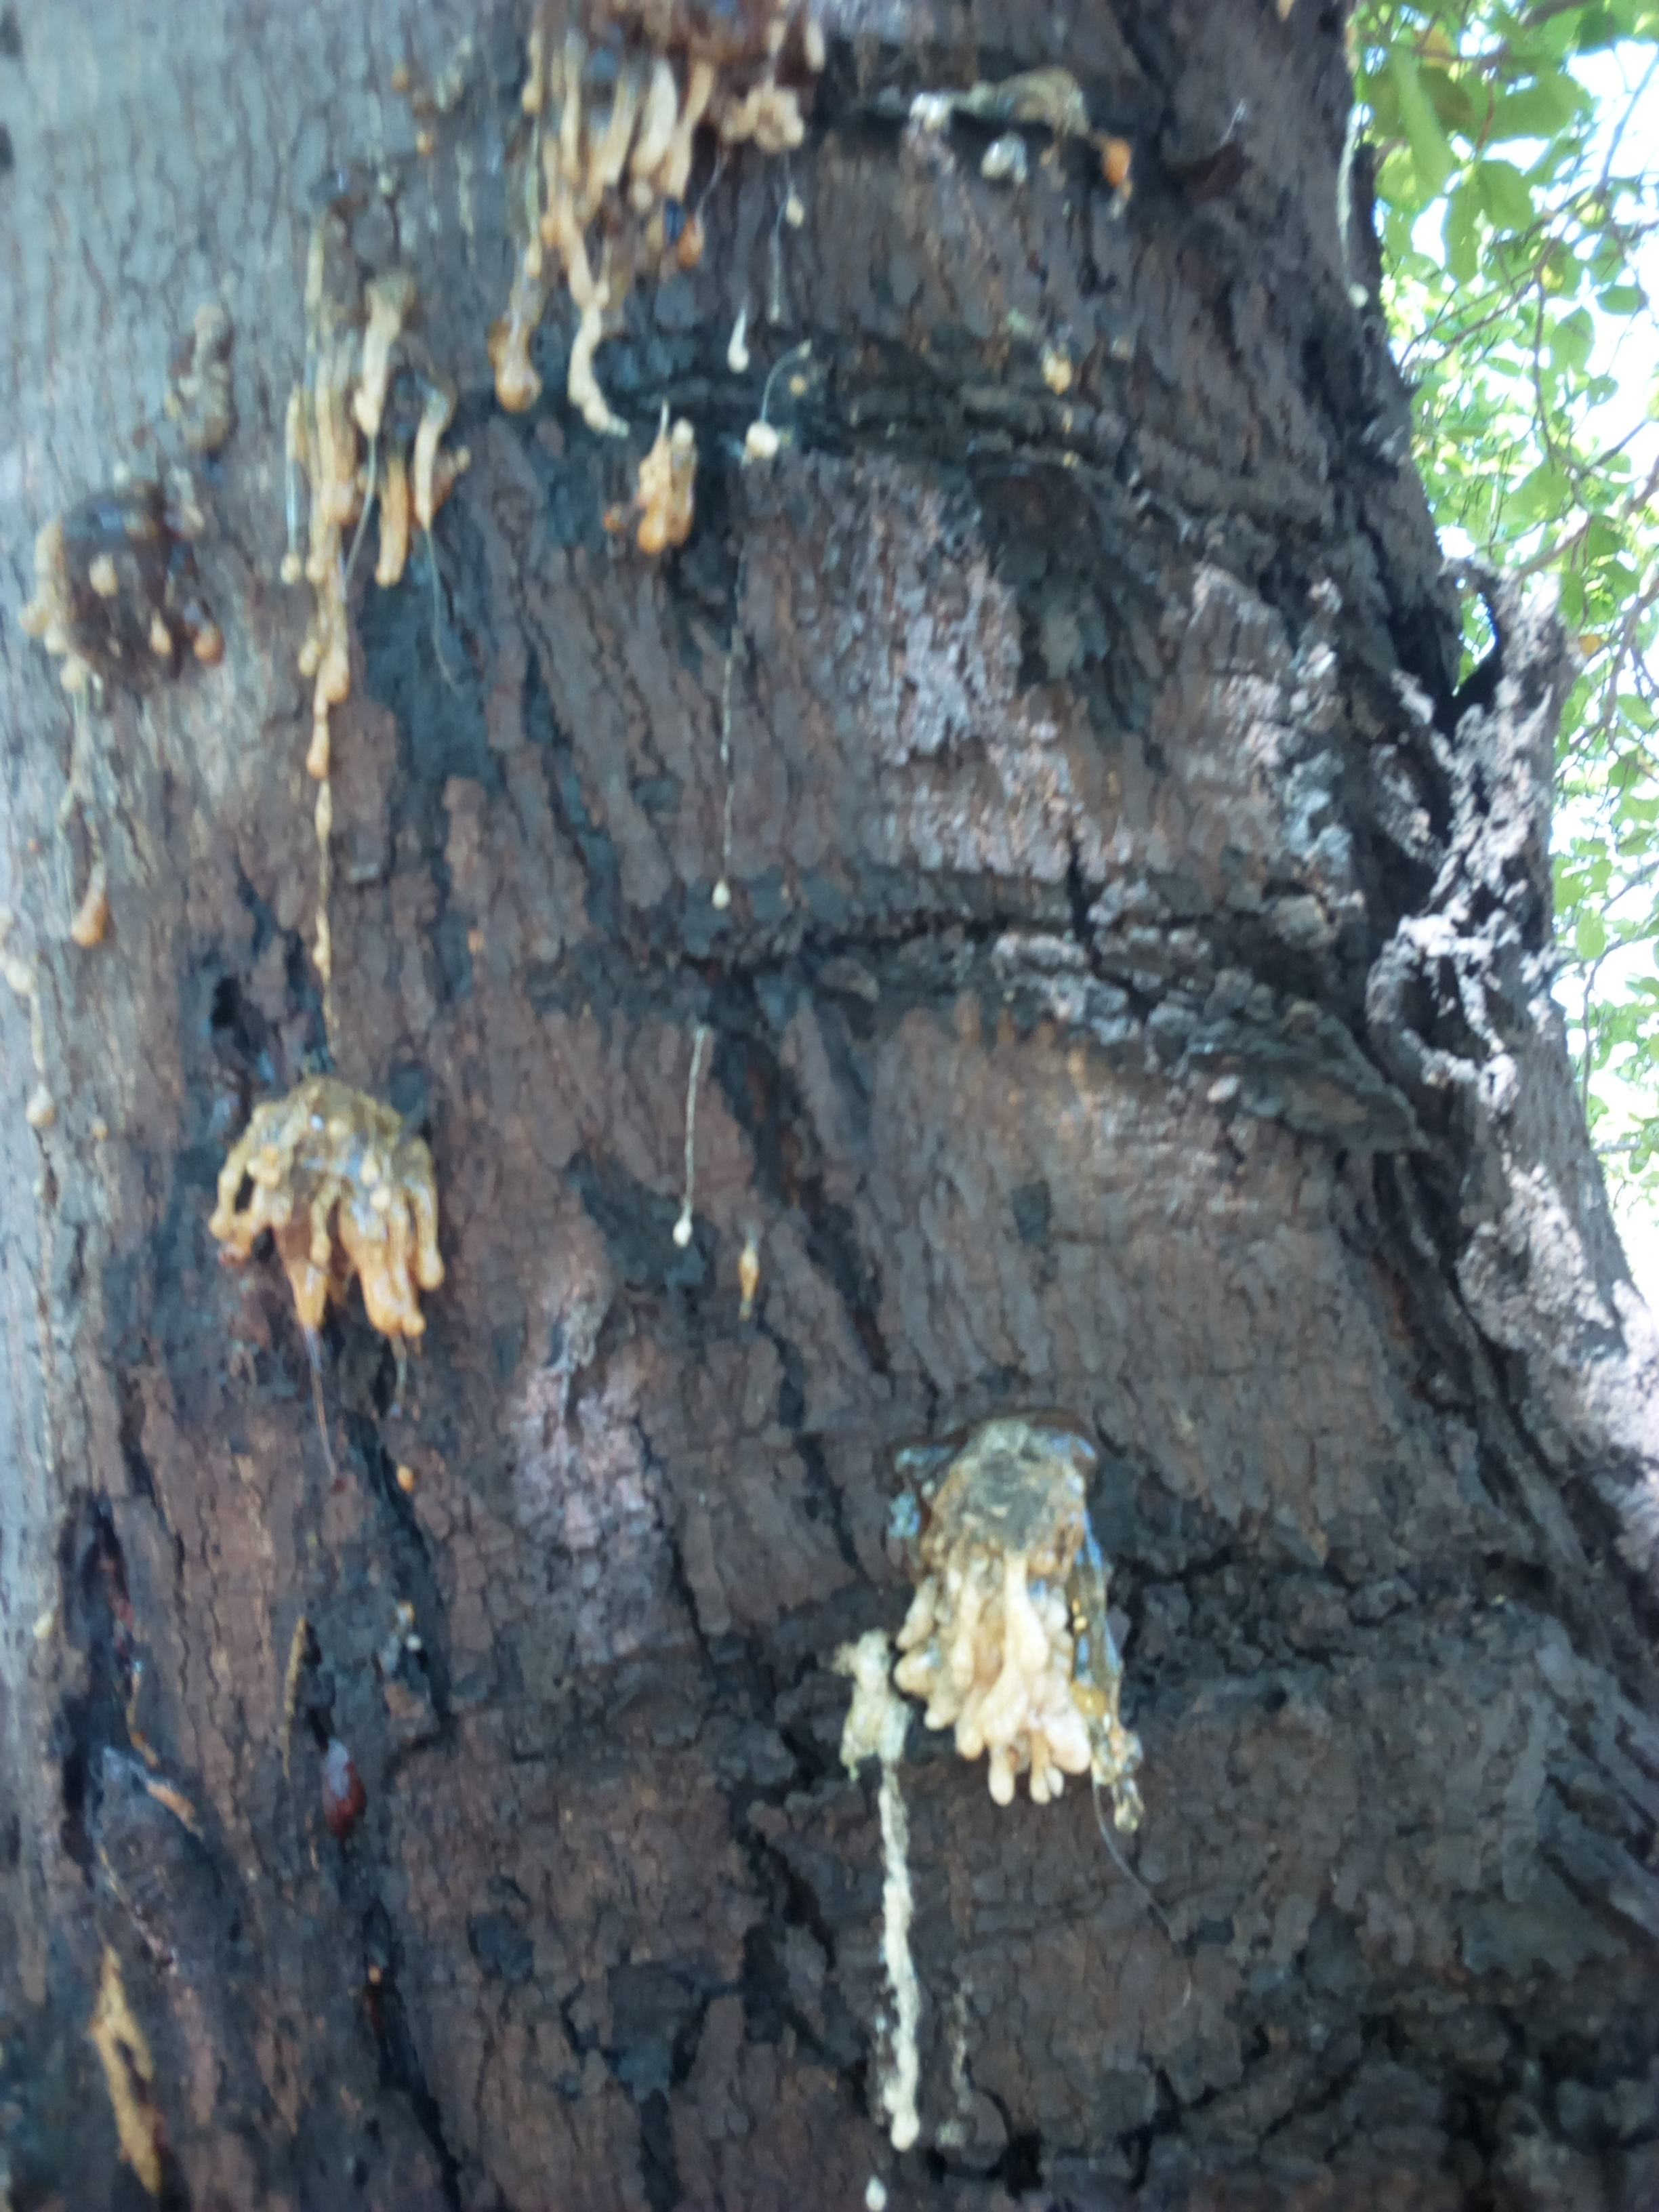Gommose: (1002, 381, 1619, 2212), (507, 5, 809, 561), (223, 1069, 457, 1381)
